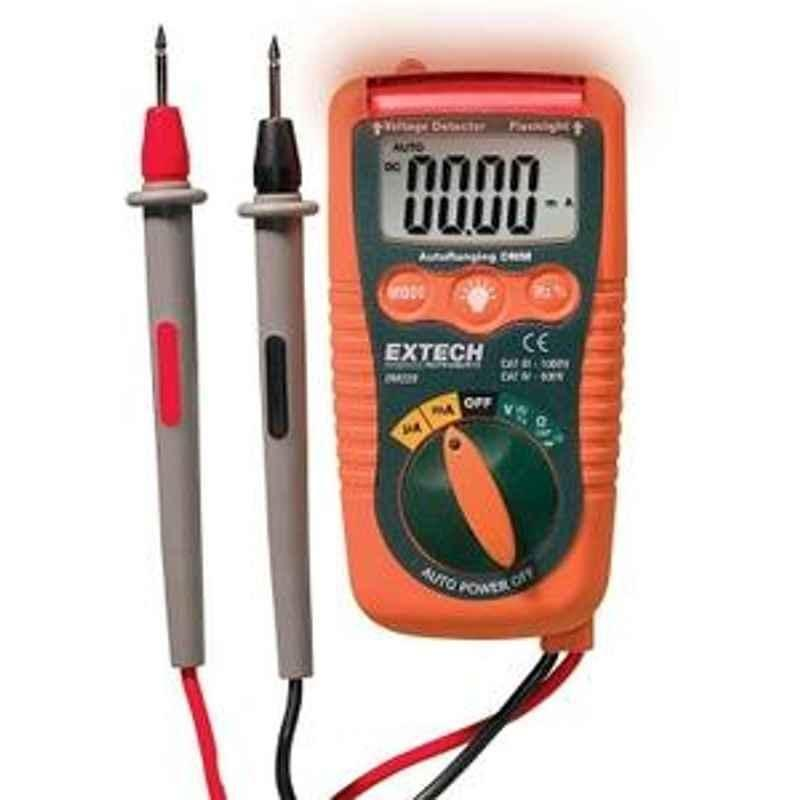multimeter: (125, 18, 641, 800)
